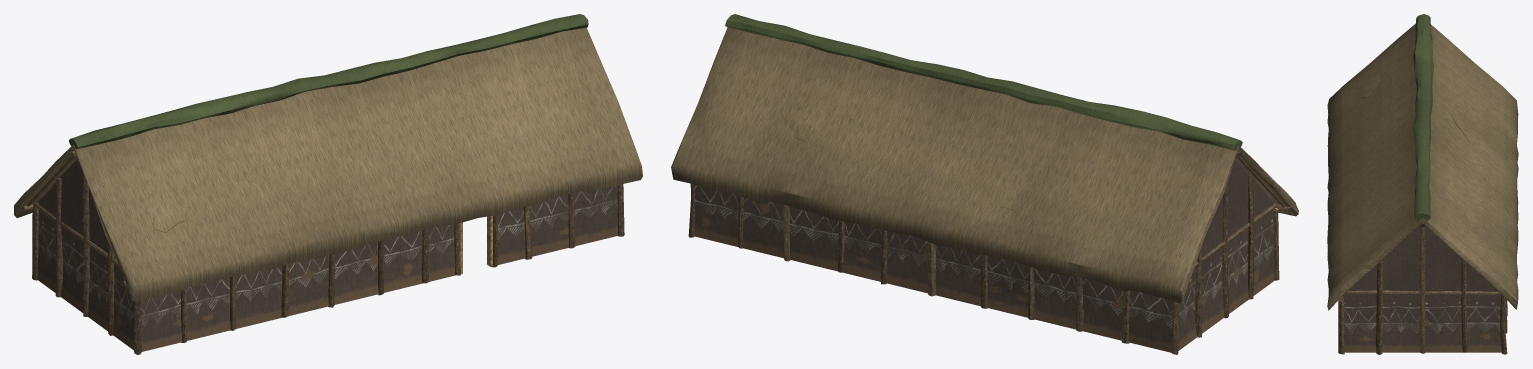
File: house_004_pattern.glb
The picture shows the model from 3 angles, left to right: view 1: azimuth 30°, elevation 25°; view 2: azimuth 150°, elevation 25°; view 3: azimuth 270°, elevation 25°; orthographic projection. The views are drawn at different scales.
Parts seen in each view (by area): view 1: Roof, Wall, Frame; view 2: Roof, Wall, Frame; view 3: Roof, Wall, Frame.
Boxes of the visible parts, x1,y1,x2,y2 form: Roof: (14,14,642,301); Wall: (37,159,617,351); Frame: (19,151,624,354); Roof: (671,14,1298,303); Wall: (694,160,1274,352); Frame: (688,151,1292,354); Roof: (1327,14,1518,310); Wall: (1344,226,1504,352); Frame: (1338,223,1507,354).
Bounding box in the file's own units: 15.89 × 5.45 × 6.39.
4 materials, 3 textured.
